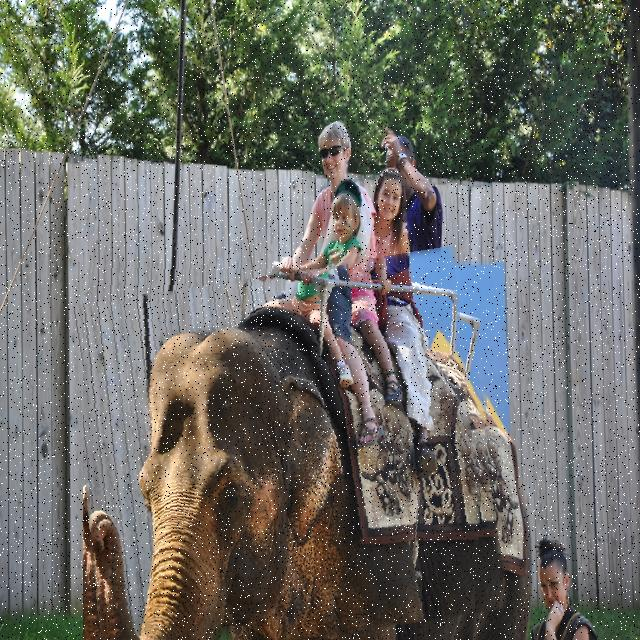elephant: (83, 259, 495, 640)
